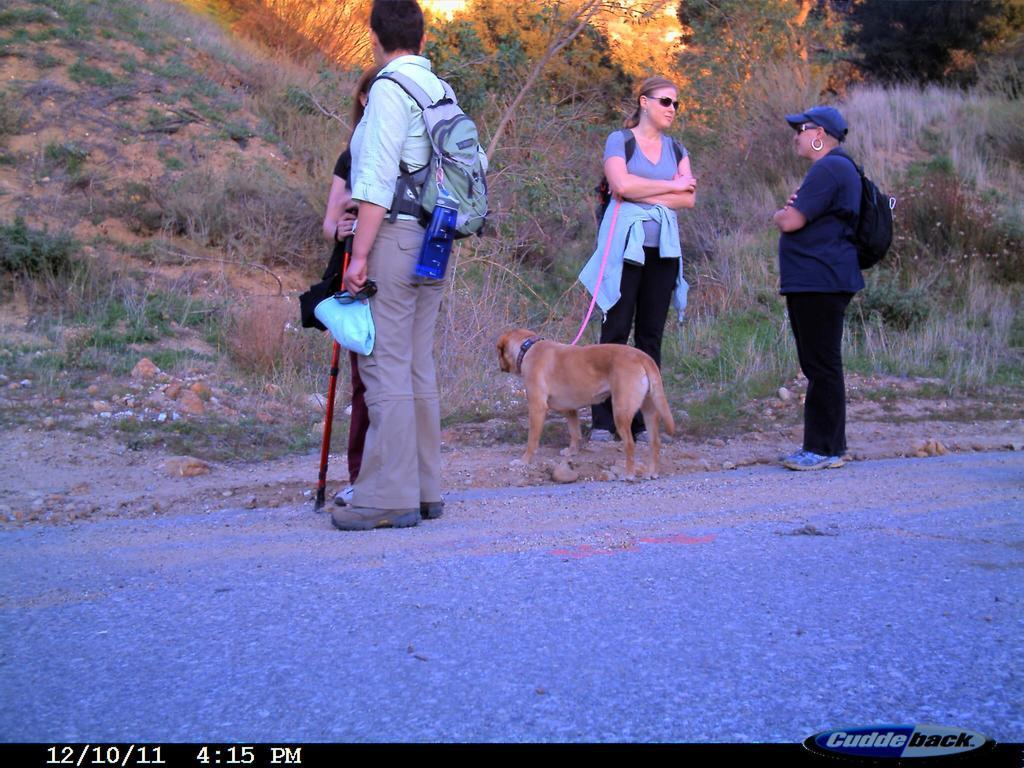dog: (495, 317, 693, 487)
